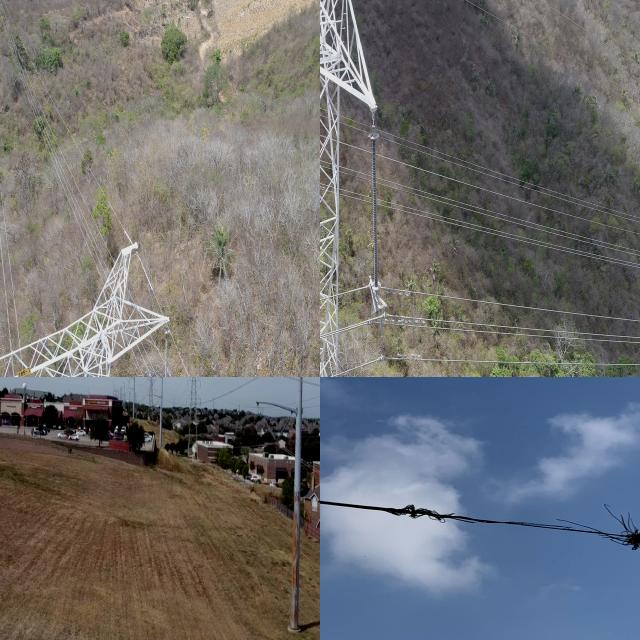杆塔: (0, 224, 175, 377), (185, 377, 203, 469)
正常电缆: (389, 155, 640, 237), (387, 198, 640, 272), (393, 288, 640, 329), (391, 308, 640, 347), (341, 348, 640, 377)
正常绝缘子: (364, 109, 384, 320), (259, 411, 283, 450), (274, 412, 293, 447), (162, 323, 171, 377)
电缆破损: (391, 491, 640, 556)
